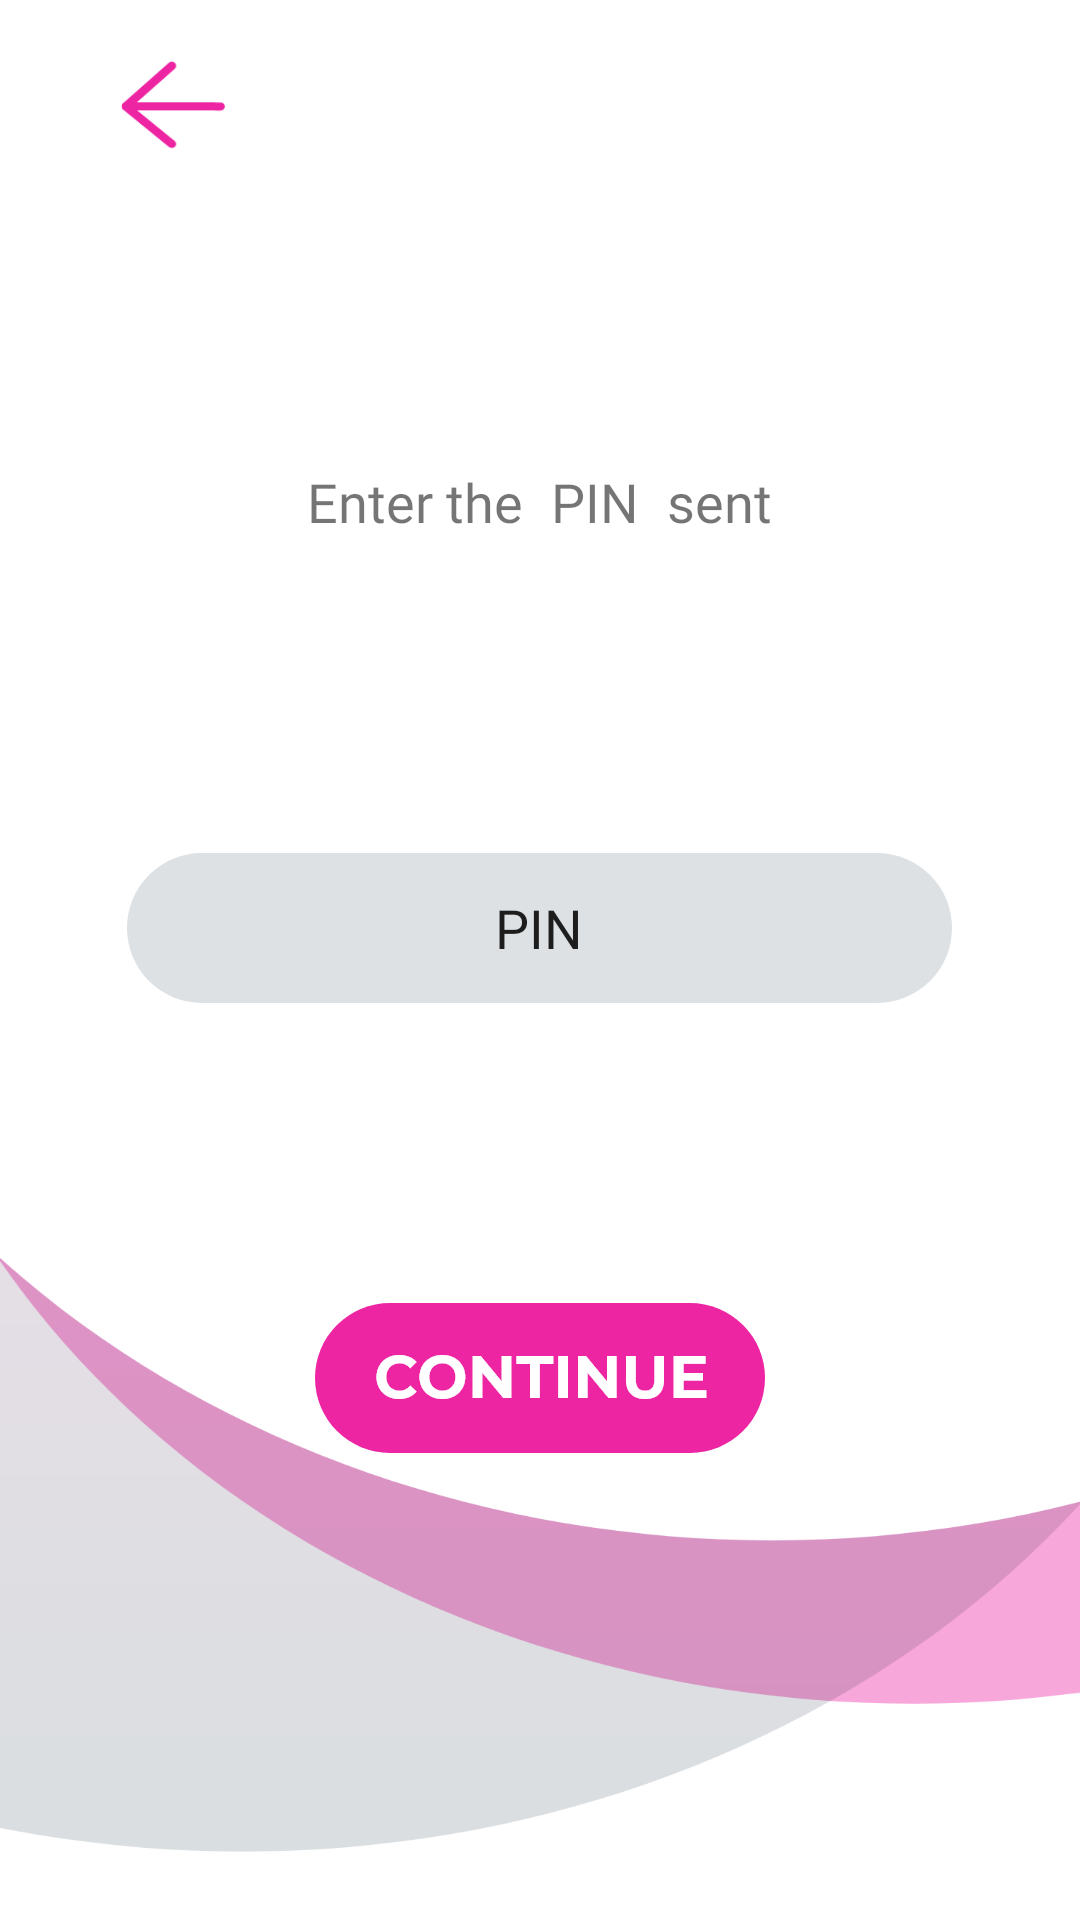

Locate icon controls on the screen. Image size 1080 × 1920, boxes as bbox=[x1, y1, x2, y2].
back: bbox=[121, 61, 225, 148]
